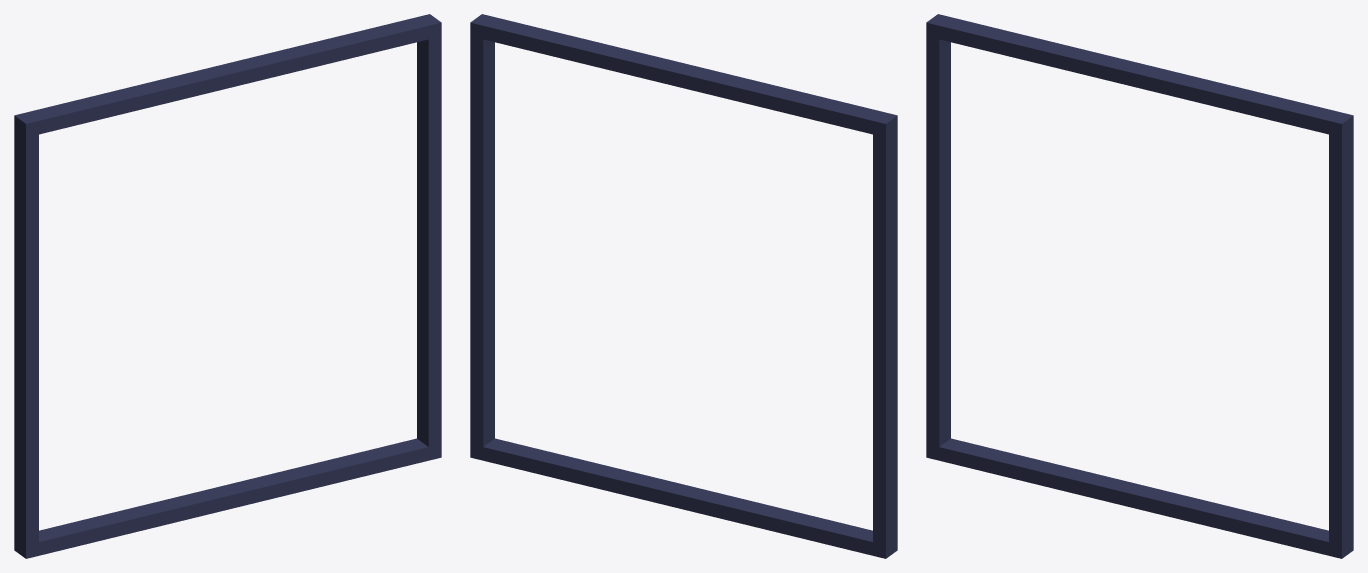
Rendered from figure_4.obj.
The picture shows the model from 3 angles, left to right: view 1: azimuth 30°, elevation 25°; view 2: azimuth 150°, elevation 25°; view 3: azimuth 330°, elevation 25°; orthographic projection.
Visible parts, largest first — view 1: Cube.004_Cube.013; view 2: Cube.004_Cube.013; view 3: Cube.004_Cube.013.
Boxes of the visible parts, x1,y1,x2,y2 form: Cube.004_Cube.013: (14, 14, 441, 558); Cube.004_Cube.013: (470, 14, 897, 558); Cube.004_Cube.013: (926, 14, 1353, 558).
Size of the model in its own units: 1.99 by 1.99 by 0.0979.
